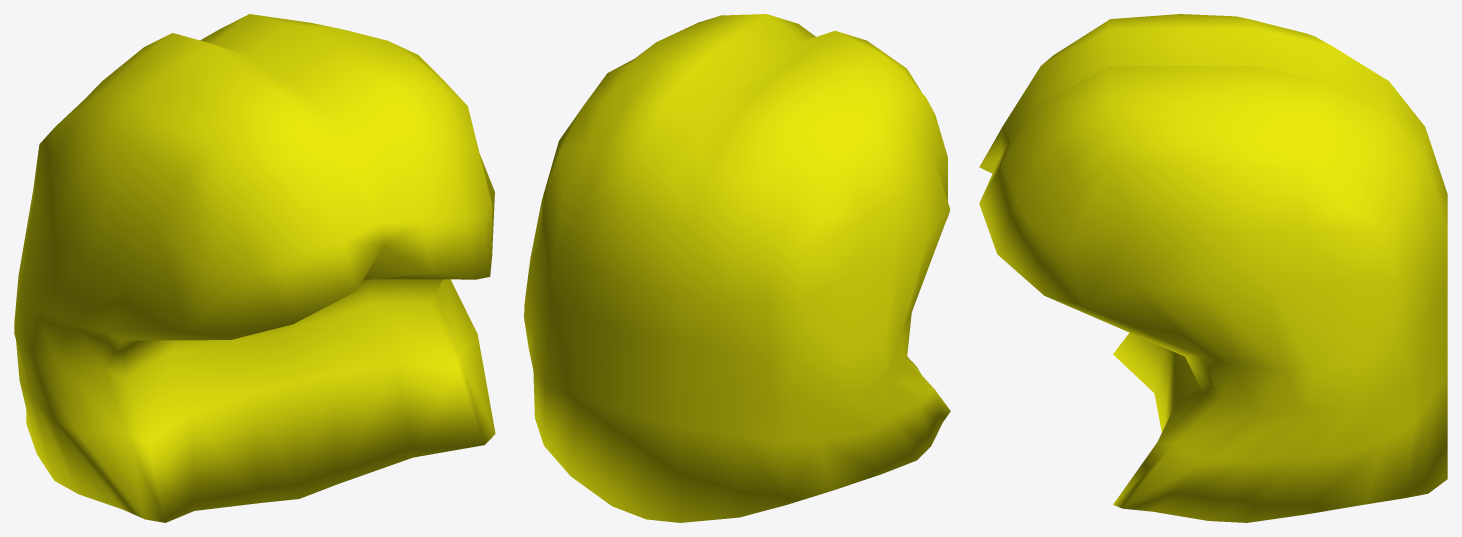
Rendered from cabello chica 01.dae.
The picture shows the model from 3 angles, left to right: view 1: azimuth 30°, elevation 25°; view 2: azimuth 150°, elevation 25°; view 3: azimuth 270°, elevation 25°; orthographic projection. The views are drawn at different scales.
Parts seen in each view (by area): view 1: pasted__pasted__polySurface14; view 2: pasted__pasted__polySurface14; view 3: pasted__pasted__polySurface14.
Boxes of the visible parts, x1,y1,x2,y2 form: pasted__pasted__polySurface14: (14,14,495,522); pasted__pasted__polySurface14: (524,14,950,522); pasted__pasted__polySurface14: (979,14,1447,522).
Bounding box in the file's own units: 1.1 × 1.12 × 1.13.
